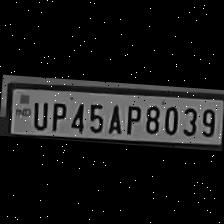0: (160, 102, 180, 134)
3: (178, 103, 198, 136)
4: (66, 96, 86, 130)
5: (84, 99, 106, 134)
8: (140, 100, 162, 134)
9: (197, 104, 218, 137)
A: (104, 98, 124, 134)
P: (121, 100, 142, 134), (47, 97, 68, 130)
U: (28, 97, 48, 129)
